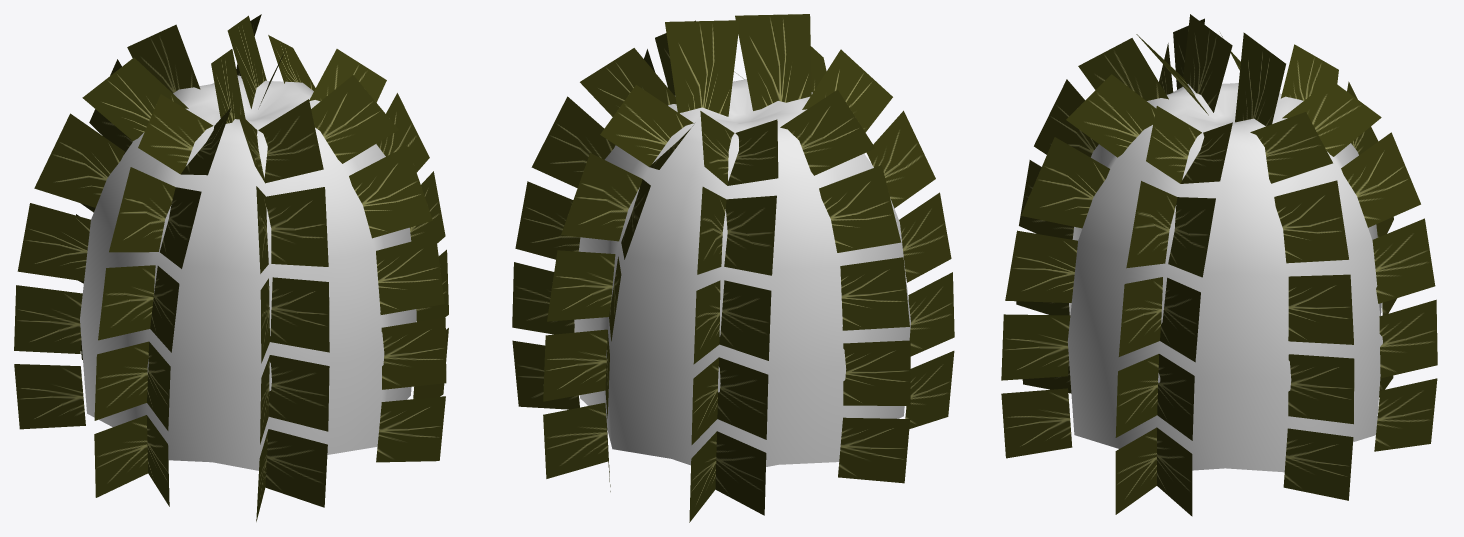
File: Cactus_2.fbx
3 renders of one model, left to right at view 1: azimuth 30°, elevation 25°; view 2: azimuth 150°, elevation 25°; view 3: azimuth 270°, elevation 25°, orthographic.
Parts seen in each view (by area): view 1: Cactus_2_LOD0; view 2: Cactus_2_LOD0; view 3: Cactus_2_LOD0.
Boxes of the visible parts, bbox=[...] form: Cactus_2_LOD0: bbox=[14, 14, 448, 521]; Cactus_2_LOD0: bbox=[512, 14, 954, 522]; Cactus_2_LOD0: bbox=[1001, 14, 1437, 516].
Size of what is drawn, in the model's own units: 273 by 265 by 274.
